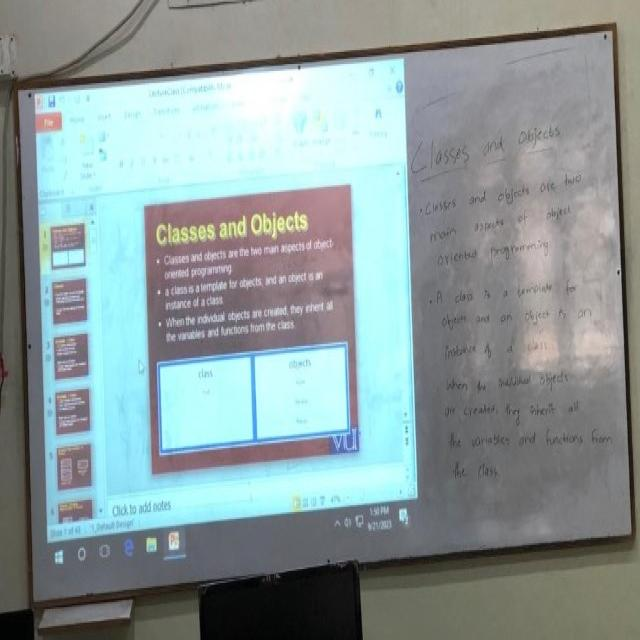Slide: (35, 55, 420, 574)
White-board: (21, 27, 636, 611)
